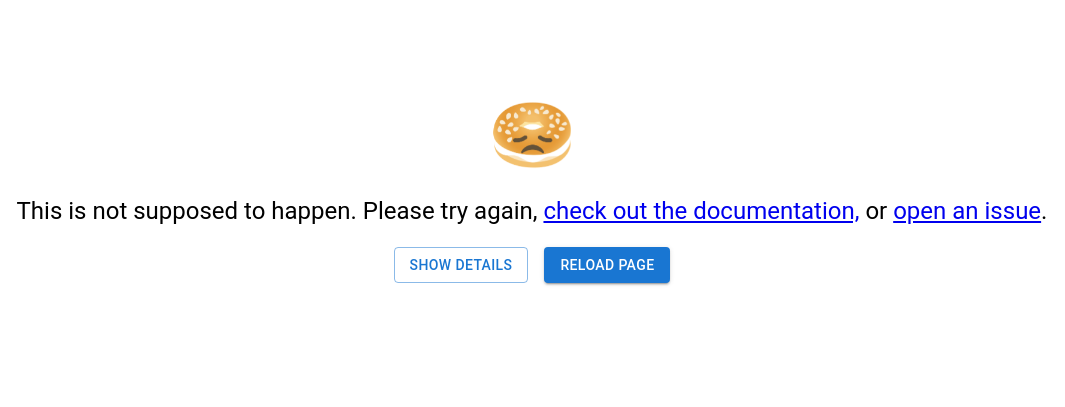
Test case: ErrorBoundary › should display fallback UI when an error is thrown
Check: the picture named "errorboundary-emoji" is shown, box [492,95,572,175]
Check: the heading with test id "error-message" is shown, box [17,195,1048,227]
Click the button with test id "toggle-details-button".
click(462, 266)  # box [394,247,529,284]
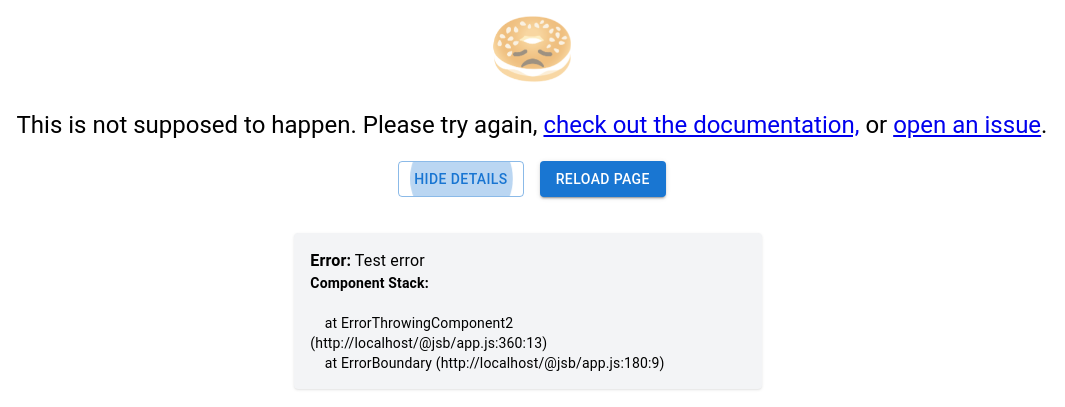
Check: the element with test id "error-text" reads "Error: Test error", box [310,251,425,270]
Check: the element with test id "component-stack" shows "at ErrorThrowingComponent", box [310,275,664,371]
